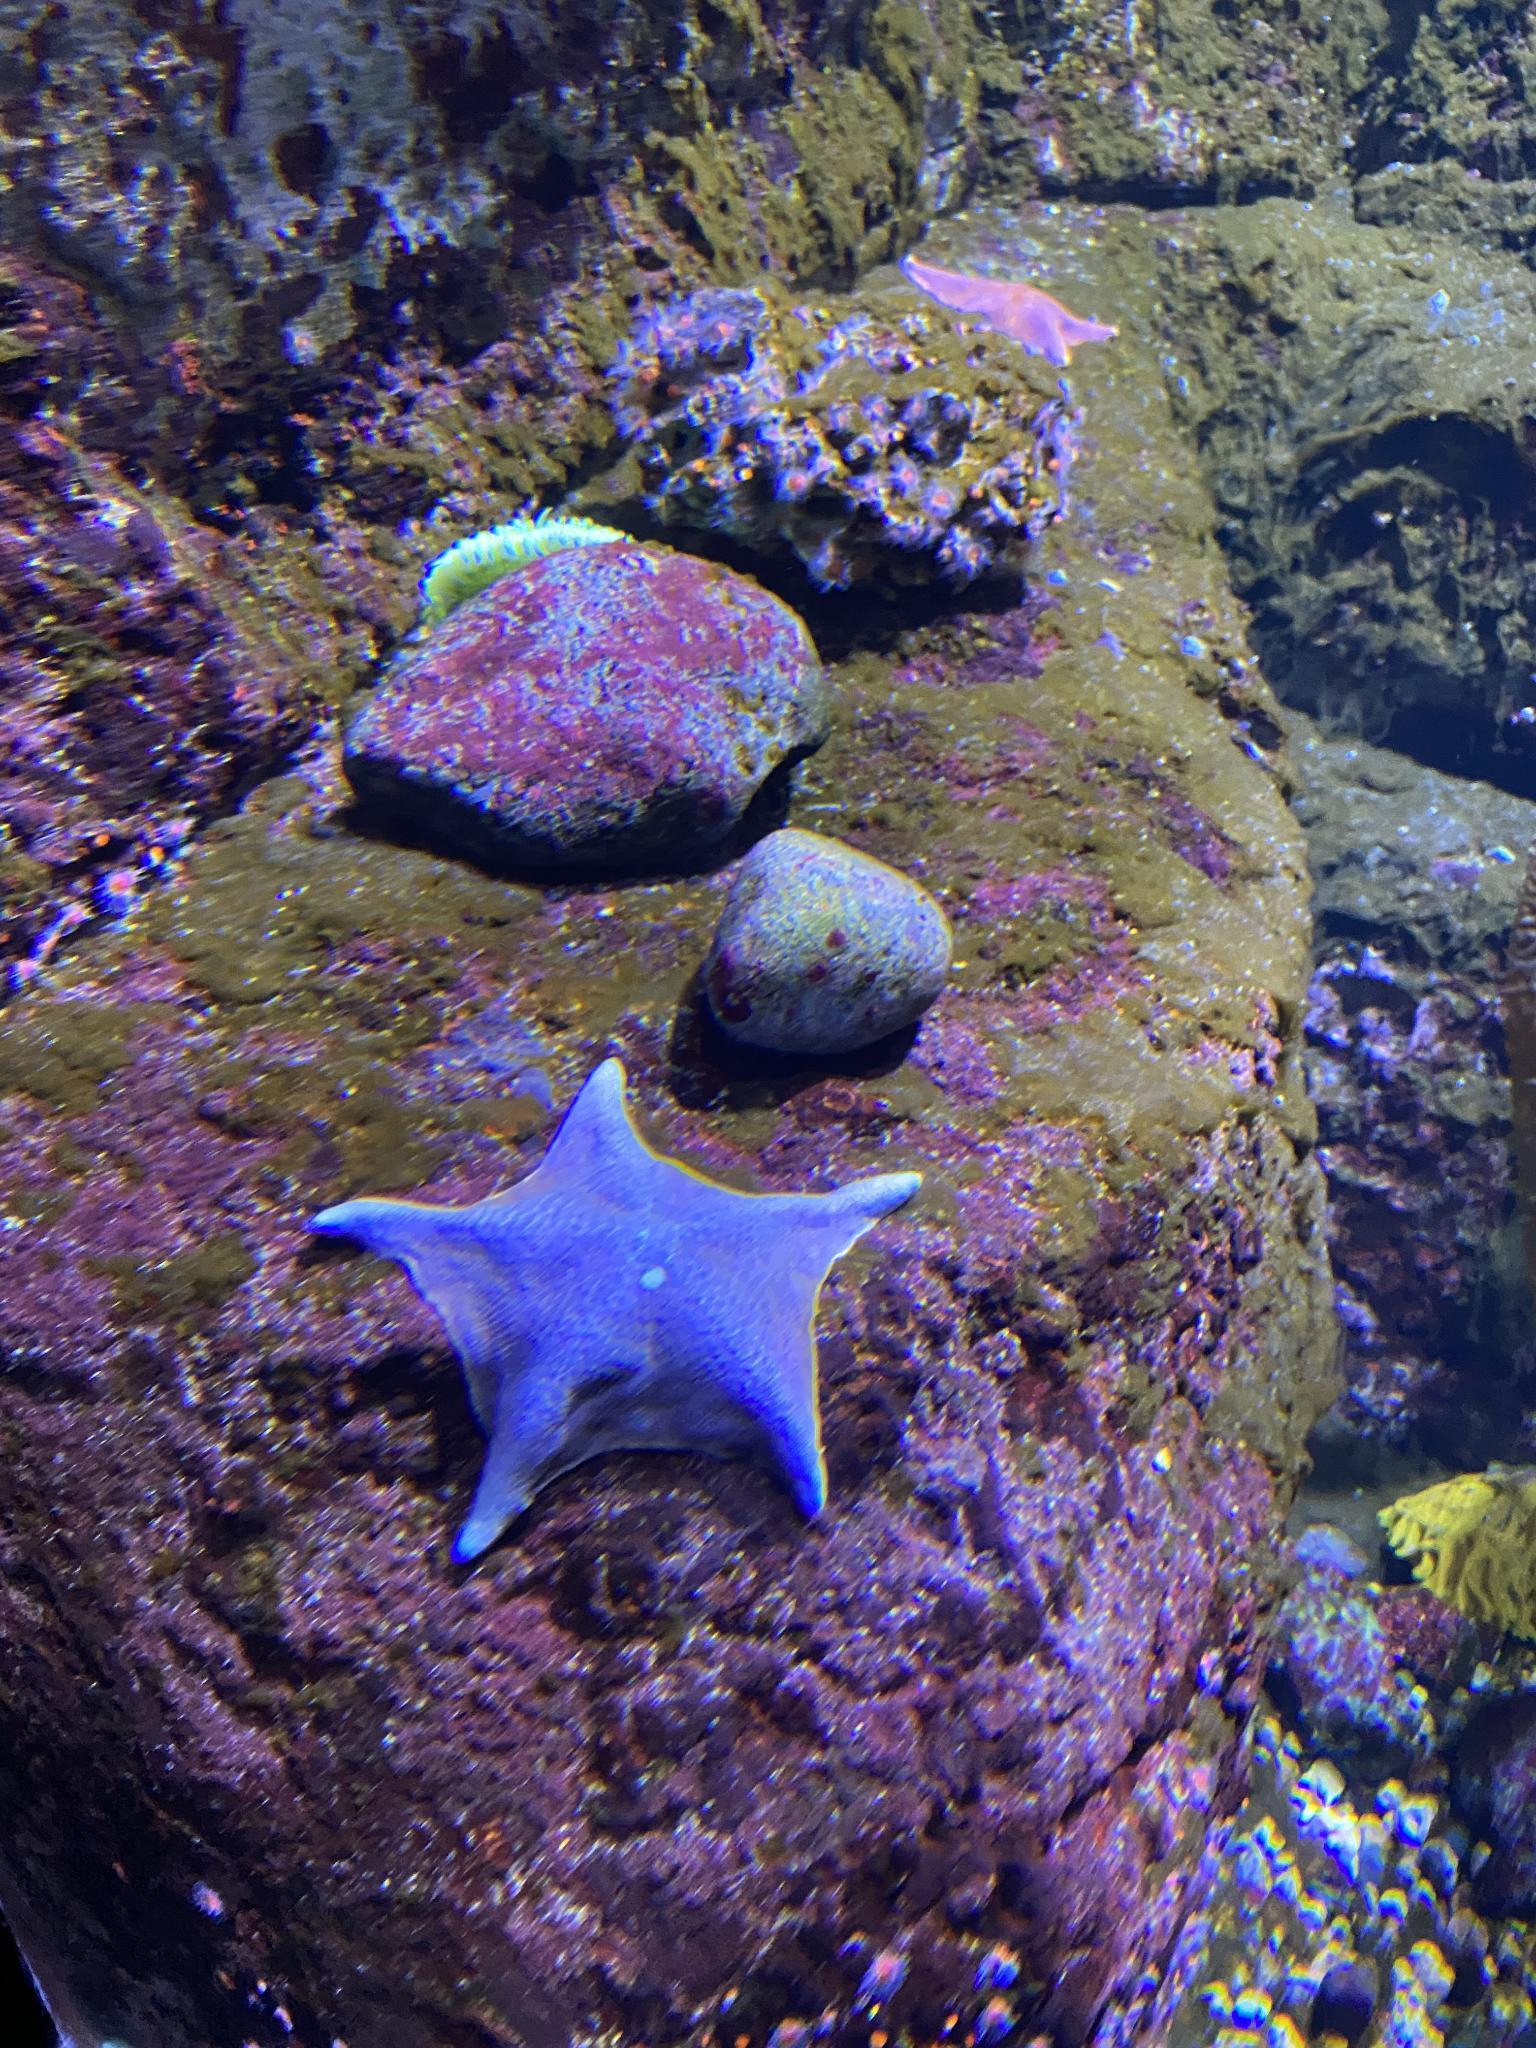starfish: (310, 1061, 921, 1558)
